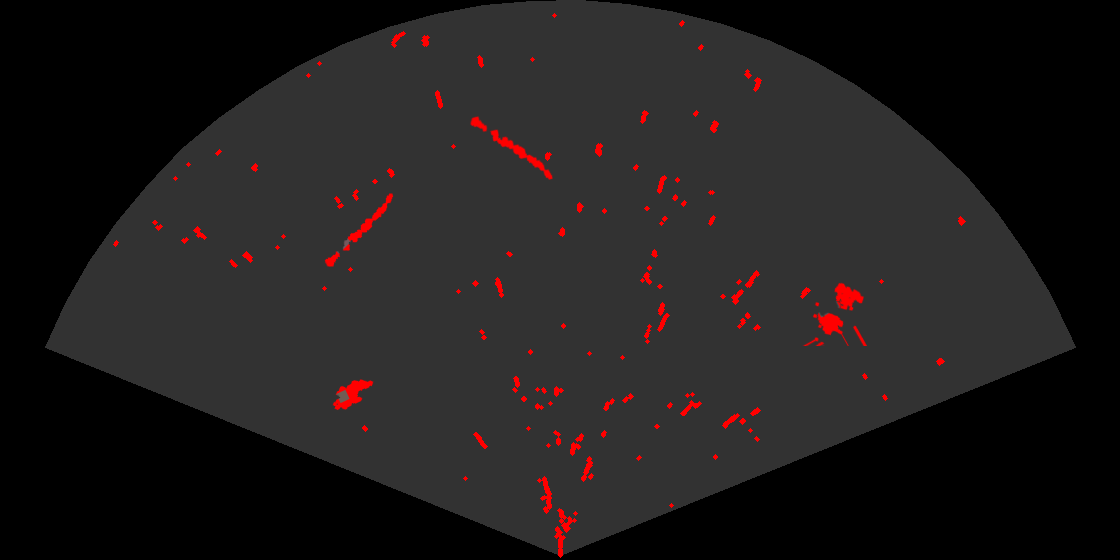AUV: (331, 378, 375, 412)
cage: (801, 281, 869, 346)
chain: (469, 115, 554, 181), (323, 192, 395, 268)
